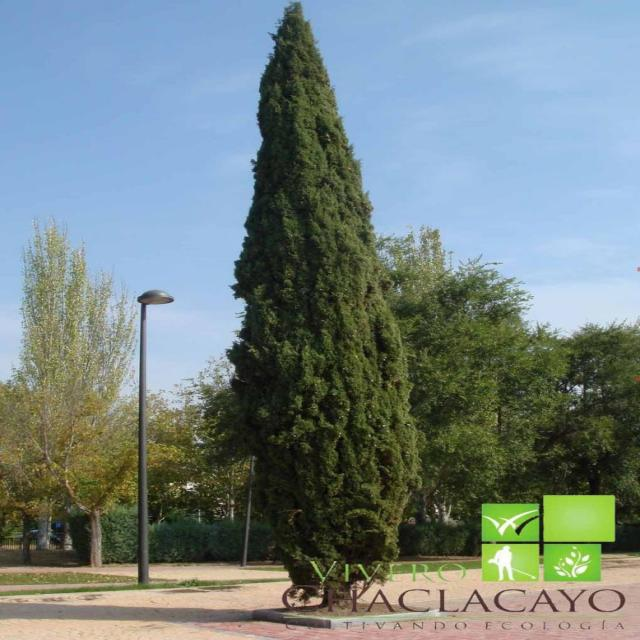cipres: (233, 0, 424, 604)
